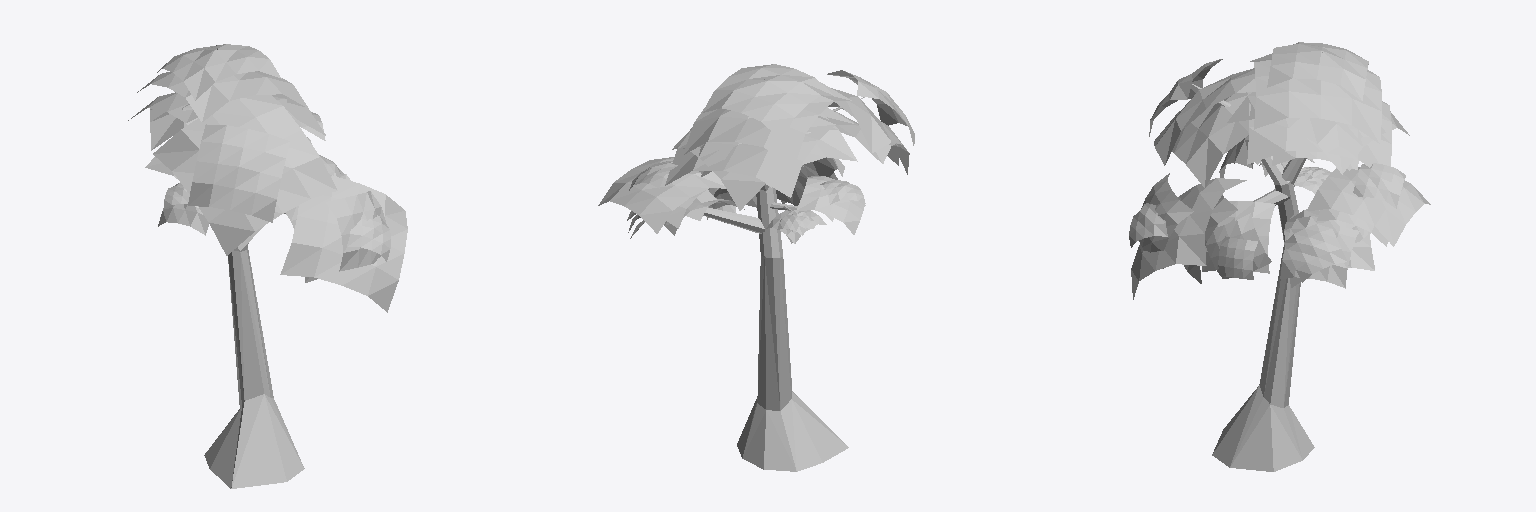
File: game_tree2.obj
3 renders of one model, left to right at view 1: azimuth 30°, elevation 25°; view 2: azimuth 150°, elevation 25°; view 3: azimuth 270°, elevation 25°, orthographic.
Parts seen in each view (by area): view 1: Plane; view 2: Plane; view 3: Plane.
Part boxes in pixels (bbox=[...]): Plane: bbox=[128, 44, 407, 488]; Plane: bbox=[598, 64, 914, 471]; Plane: bbox=[1129, 42, 1430, 471].
Bounding box in the file's own units: 6.02 × 10.21 × 6.97.